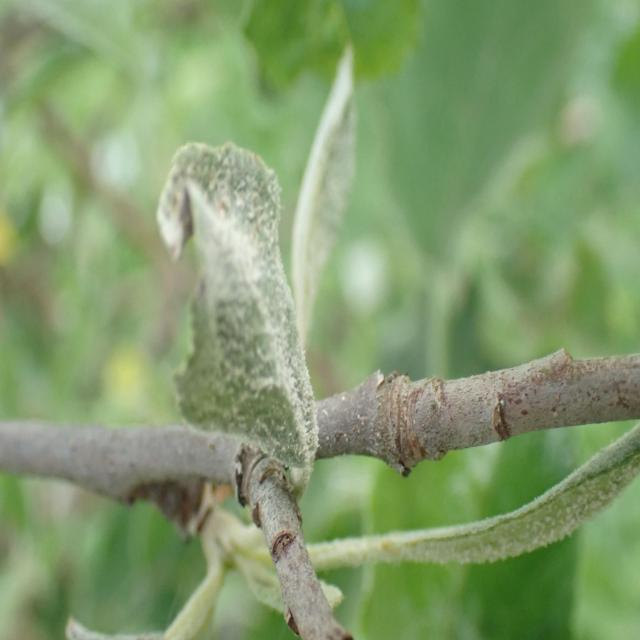Powdery_mildew: (136, 112, 338, 496)
